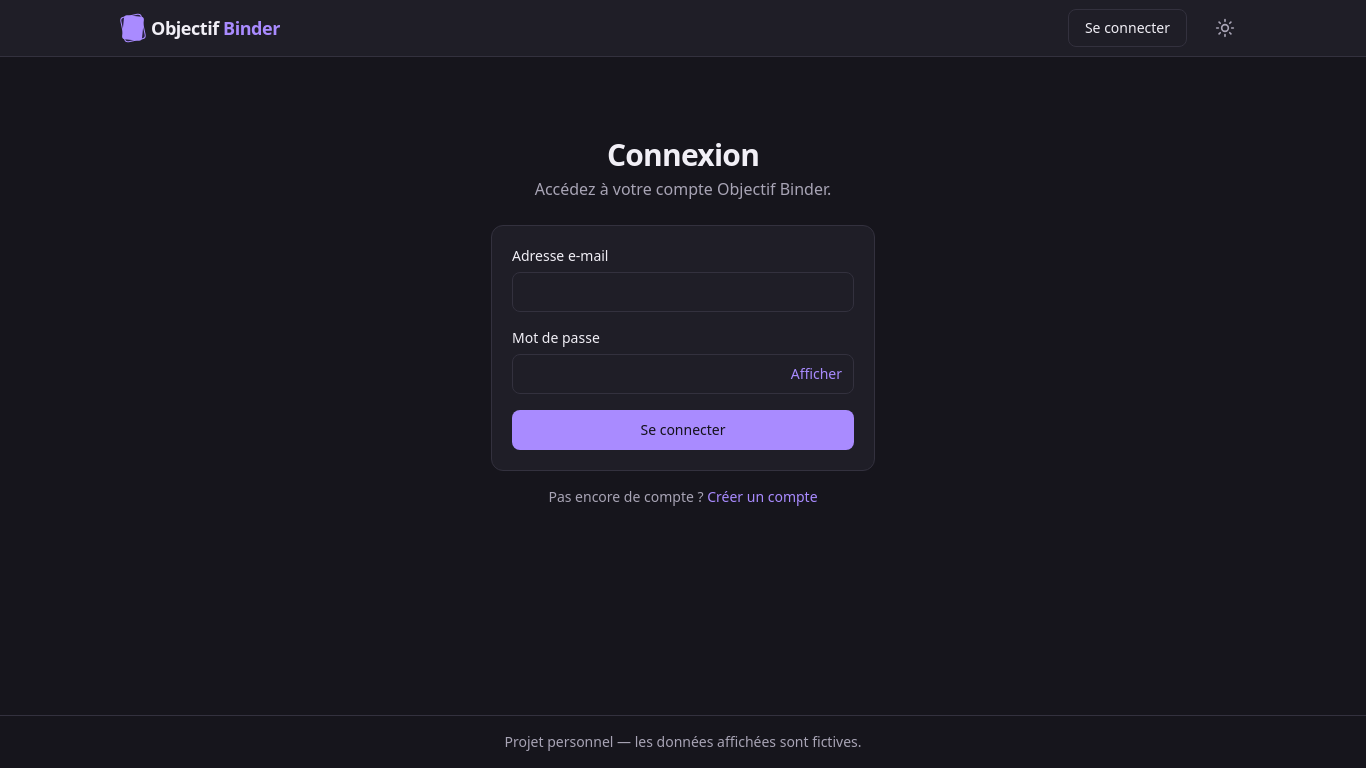
RegisterPage › is reached from the sign-in screen, and leads back to it
Step 1. Click the link "Créer un compte" → click(762, 496), box x1=707 y1=487 x2=818 y2=506
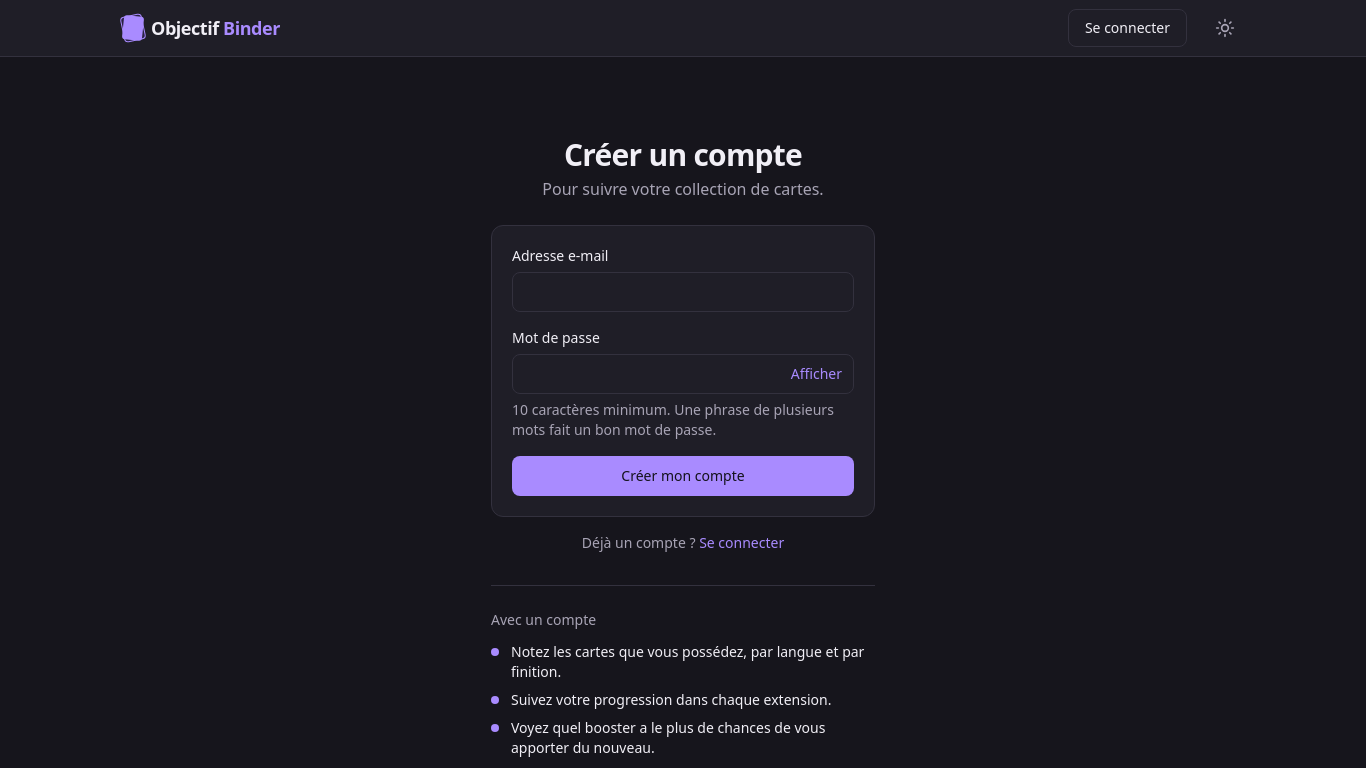
Expected: the heading "Créer un compte" is shown, x1=564 y1=134 x2=802 y2=175
Note: The header has a link of the same name: take the one under the form.
Step 2. Click the link "Se connecter" next to "Déjà un compte ?" → click(742, 542), box x1=699 y1=533 x2=784 y2=552
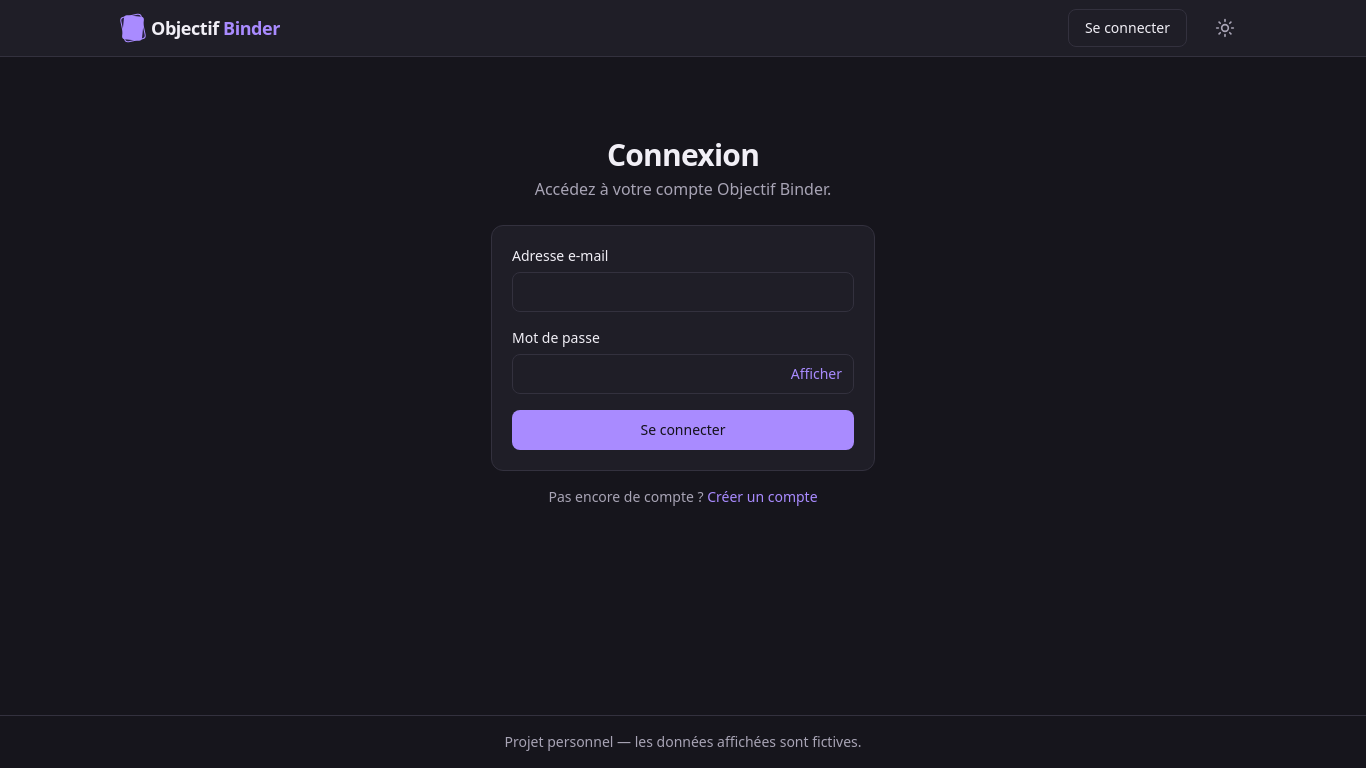
Expected: the heading "Connexion" is shown, x1=607 y1=134 x2=759 y2=175
